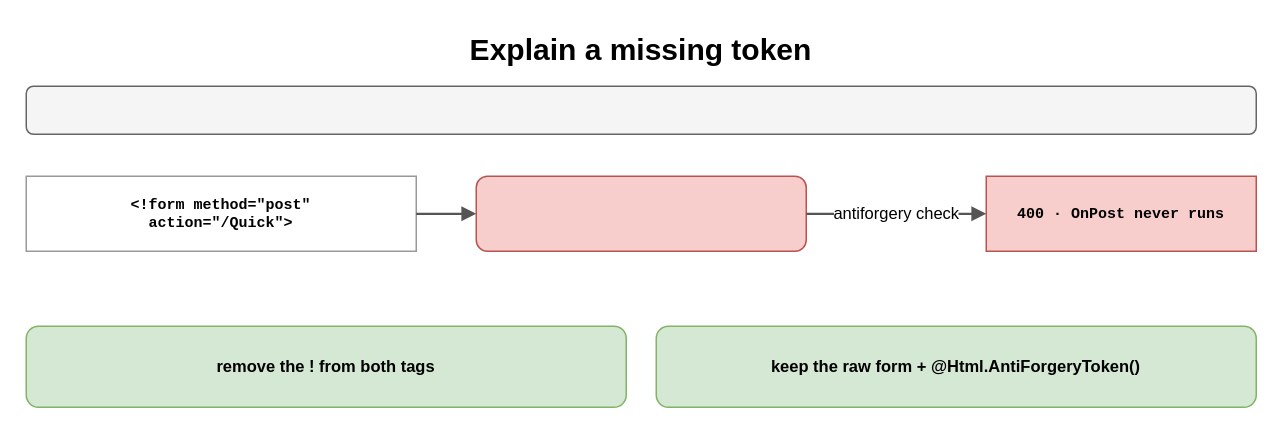
Some shapes in this 1283 by 434 pixel diagram are drawn without their labels. The centre of each missing label's shape, as x and y in pixels:
"! turns the Form Tag Helper off, so no token is rendered" belongs at (x=640, y=109).
"no __RequestVerificationToken" belongs at (x=640, y=213).
